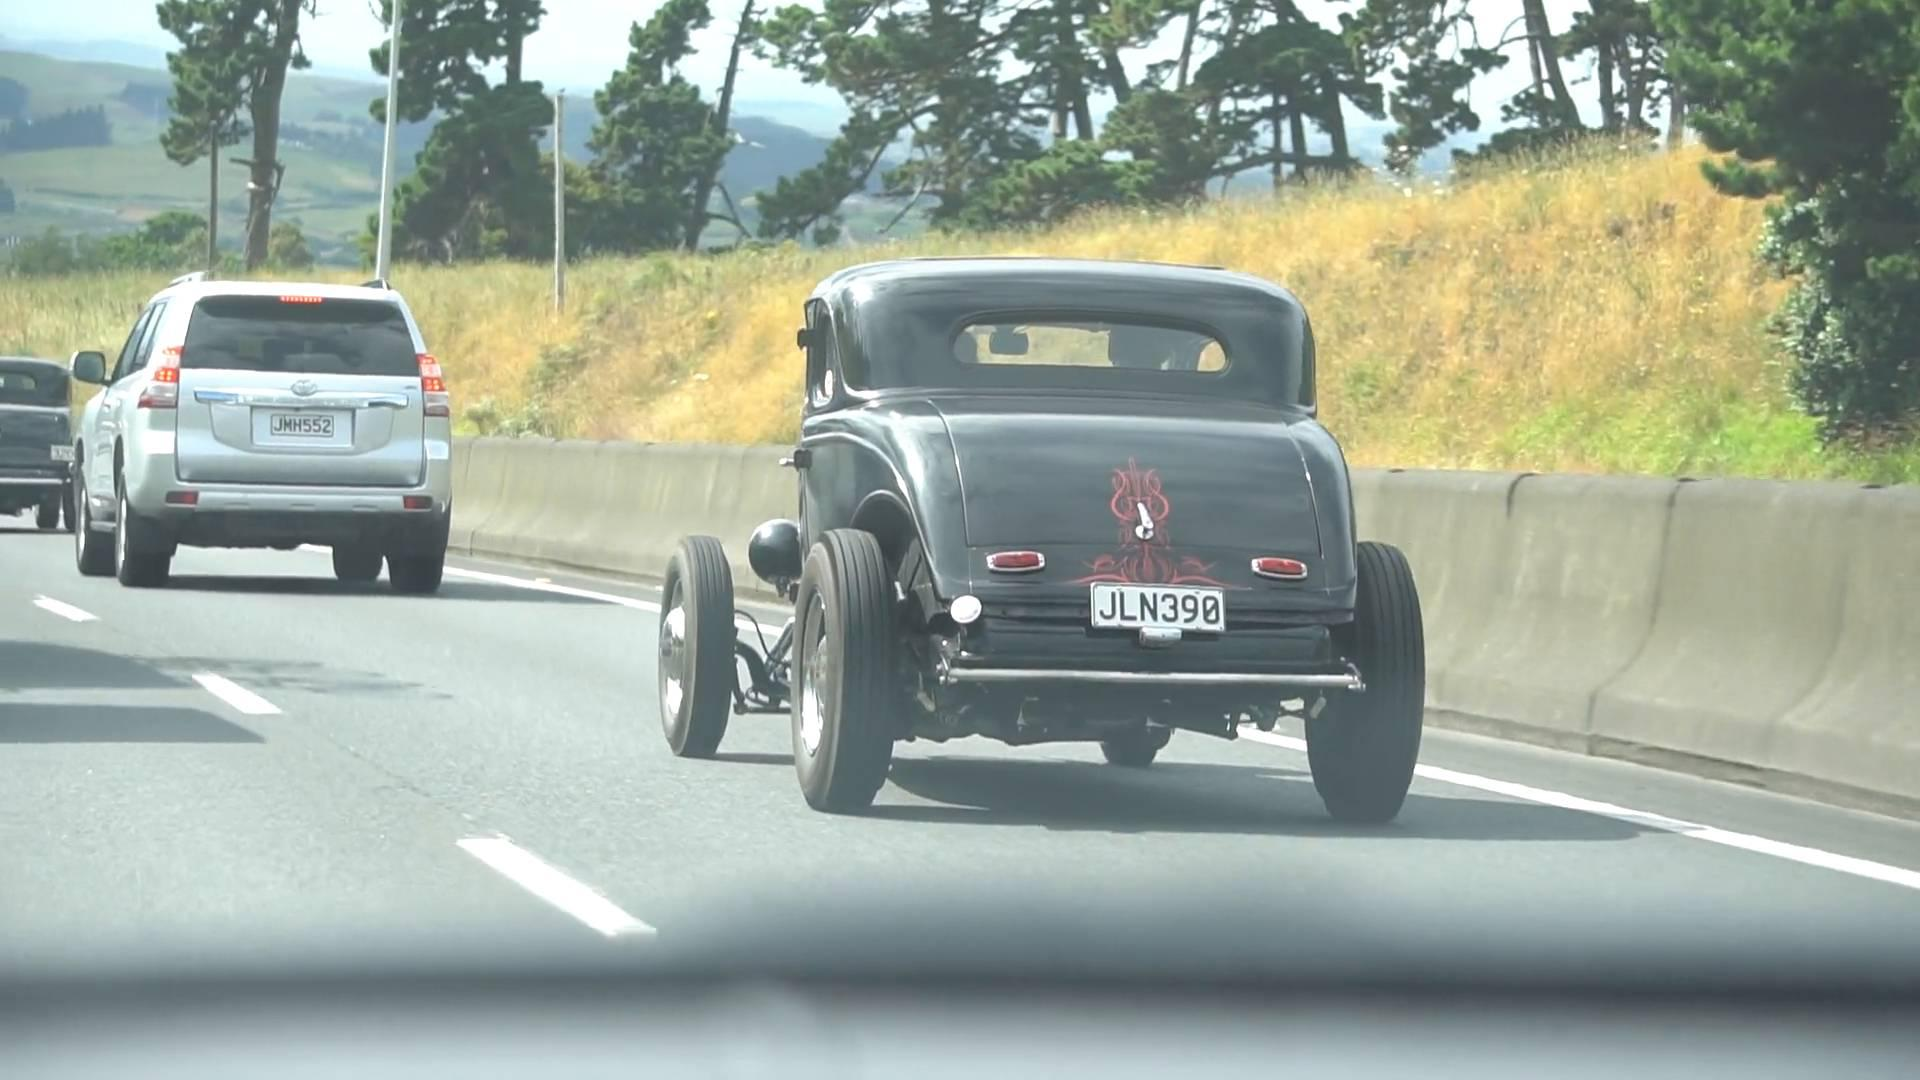car: (649, 252, 1429, 823), (58, 264, 451, 586)
license_plate: (1087, 581, 1235, 629), (267, 407, 337, 439)
